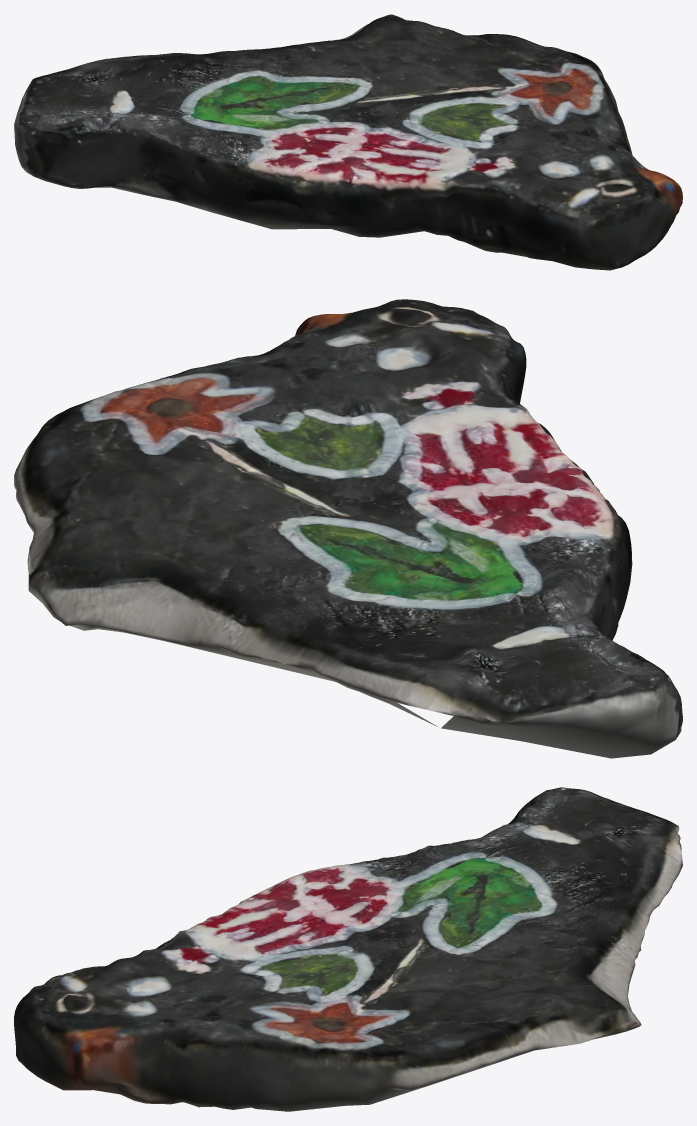
3 views of the same model, one above another, from view 1: azimuth 30°, elevation 25°; view 2: azimuth 150°, elevation 25°; view 3: azimuth 270°, elevation 25° (orthographic). The views are drawn at different scales.
Bounding box in the file's own units: 0.5659 × 0.0837 × 0.5674.
1 material, 1 textured.
